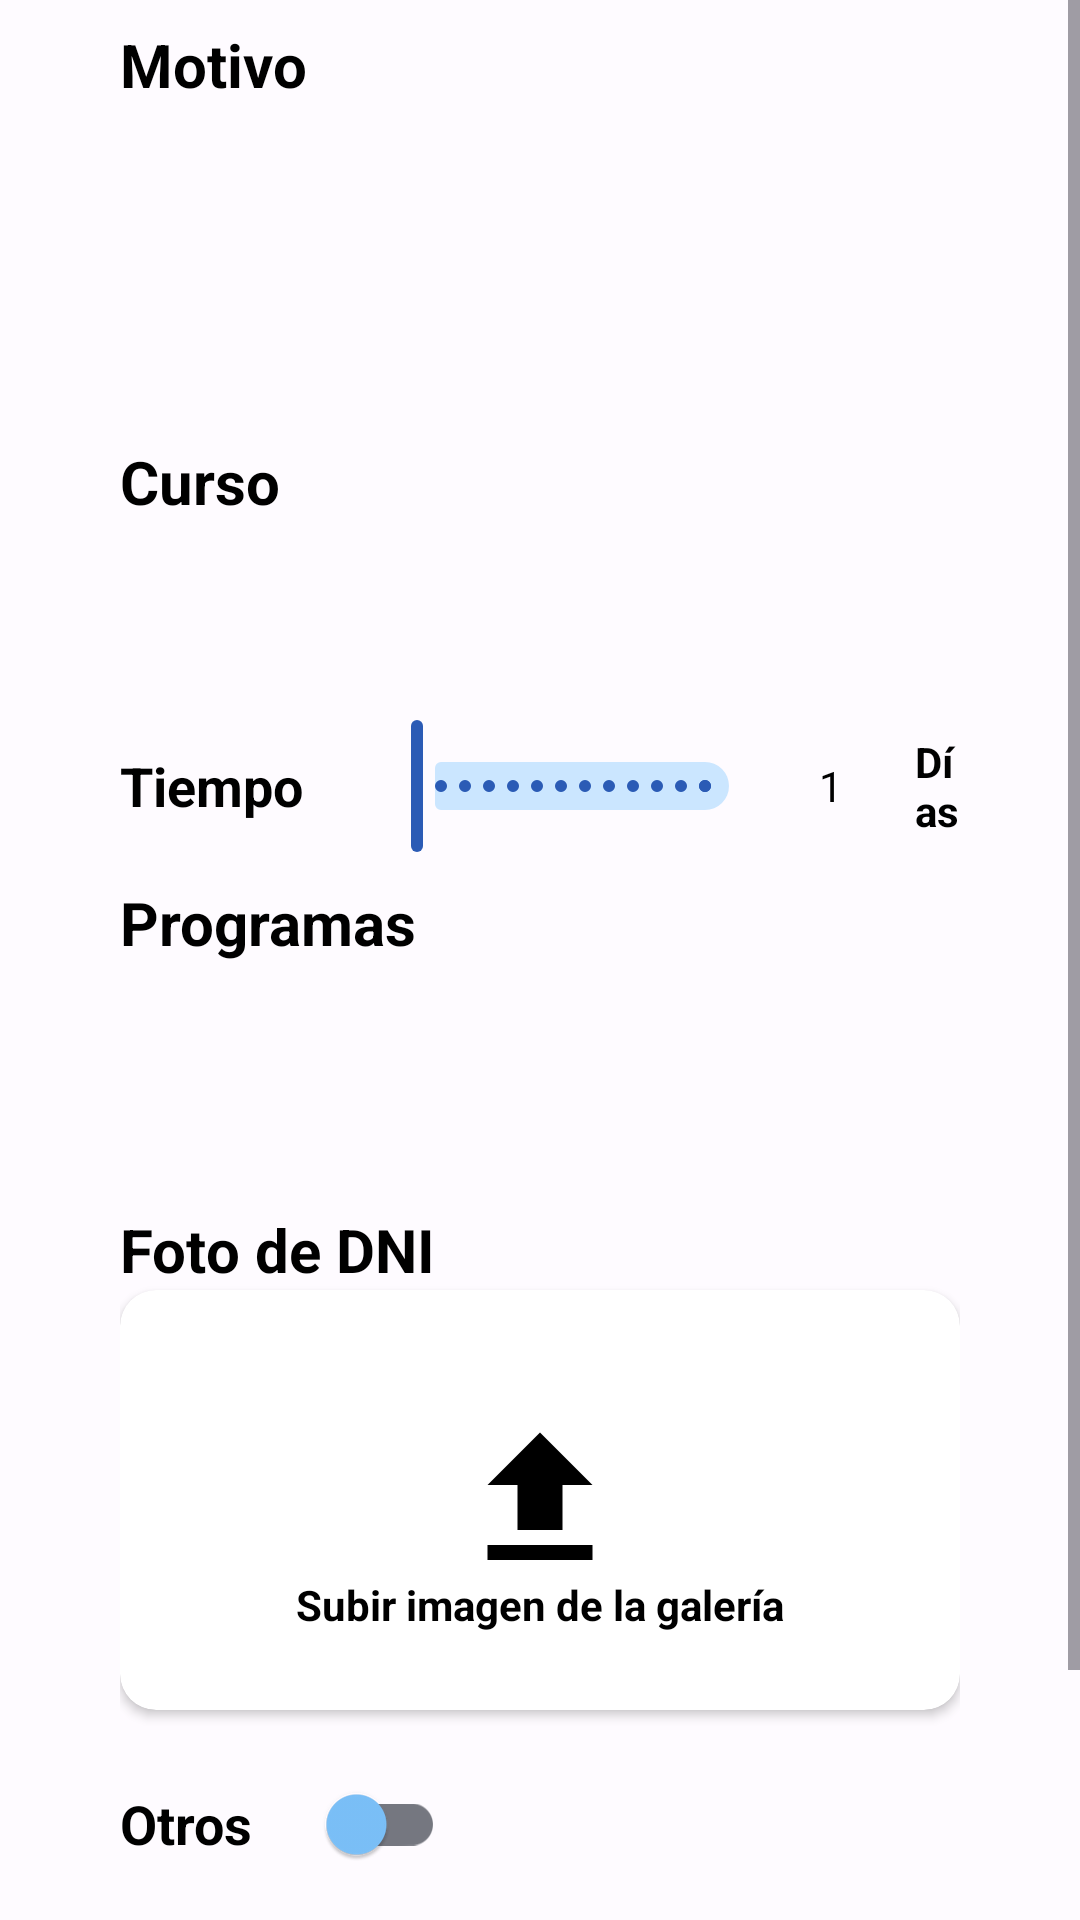

Icons on this 1080w x 1920h Android screen, each with the point to tap as (x,y):
upload: (540,1496)
